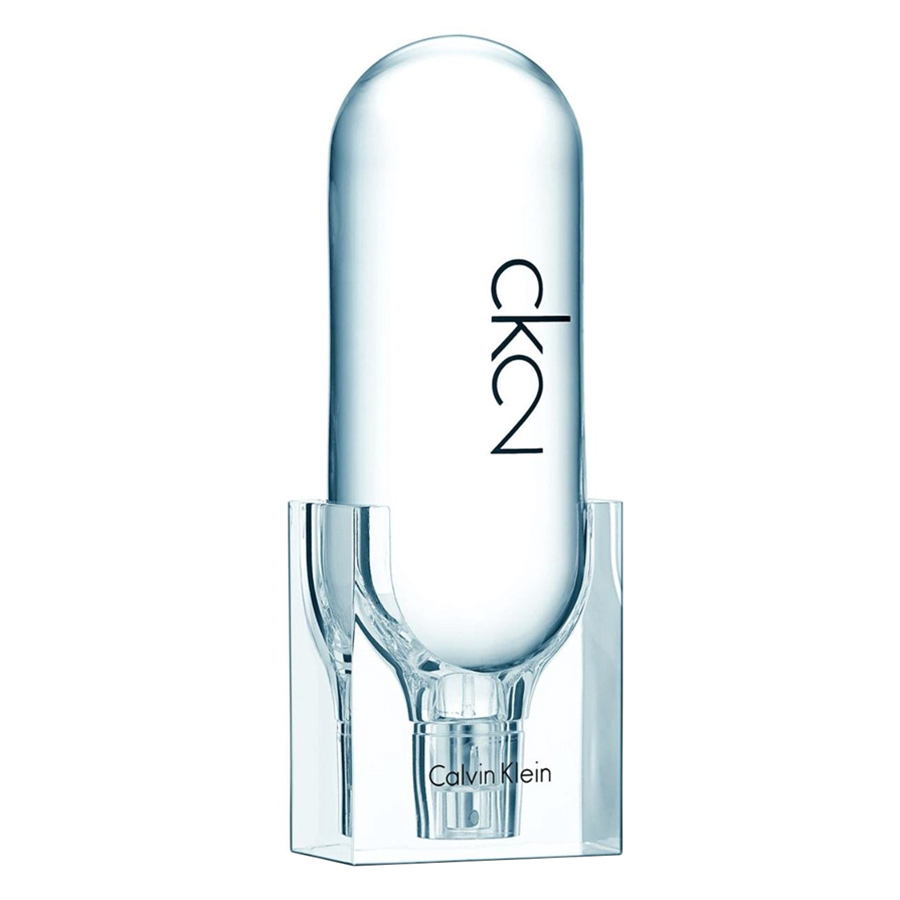Calvin Klein: (484, 248, 573, 363), (427, 760, 562, 789)
